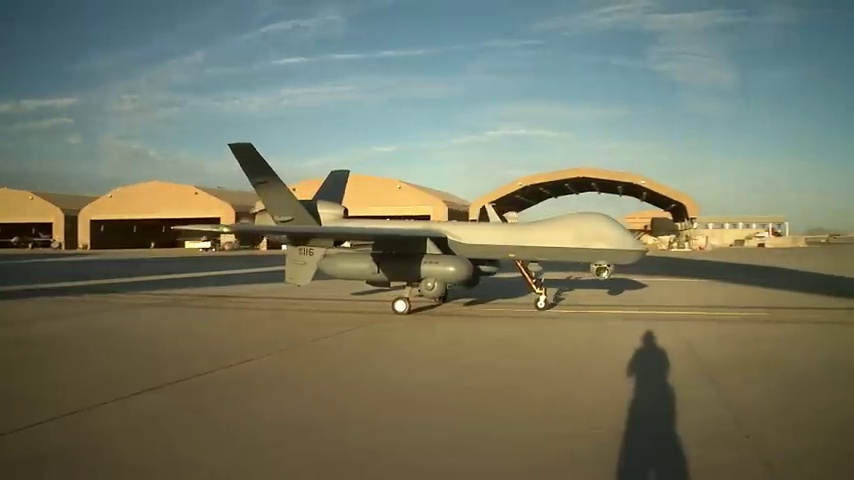military drone: (171, 142, 649, 315)
